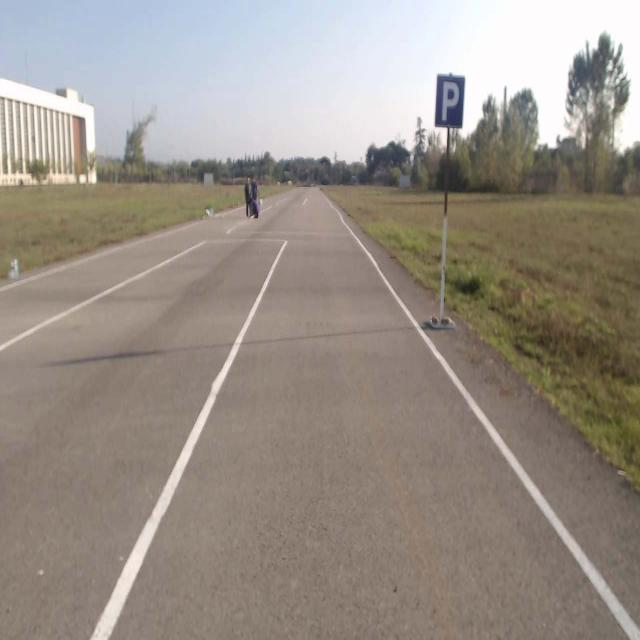park: (435, 72, 463, 128)
